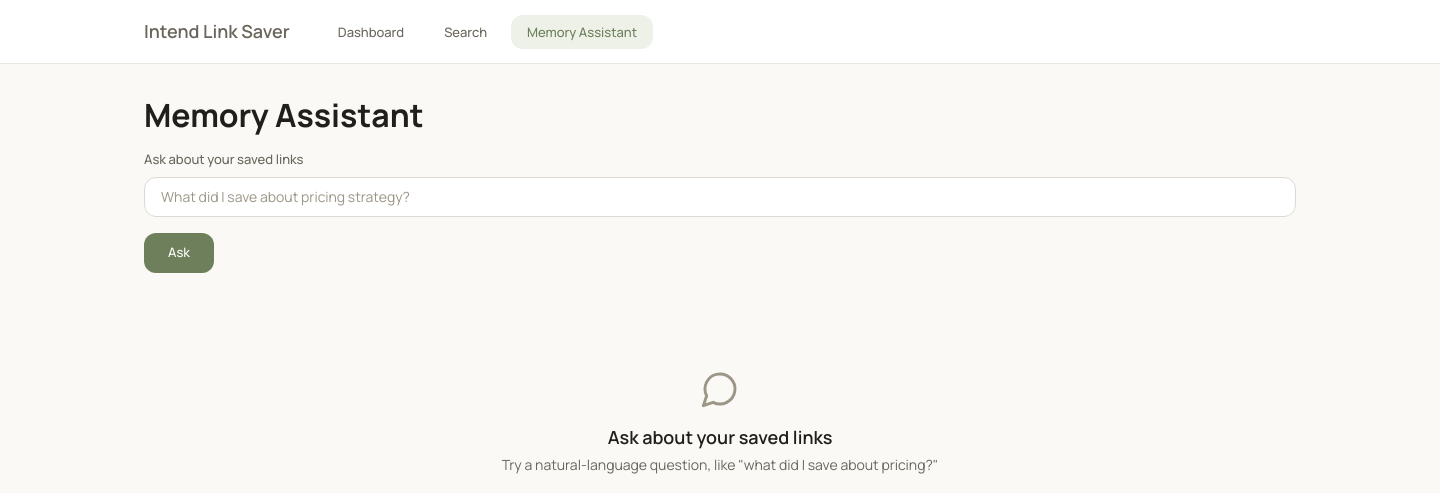
Test: MemoryAssistantPage › shows an error state when the request fails
This screenshot has width=1440, height=493.
In the field labelled "Ask about your saved links": (720, 197) [144, 177, 1296, 217], type "pricing?"
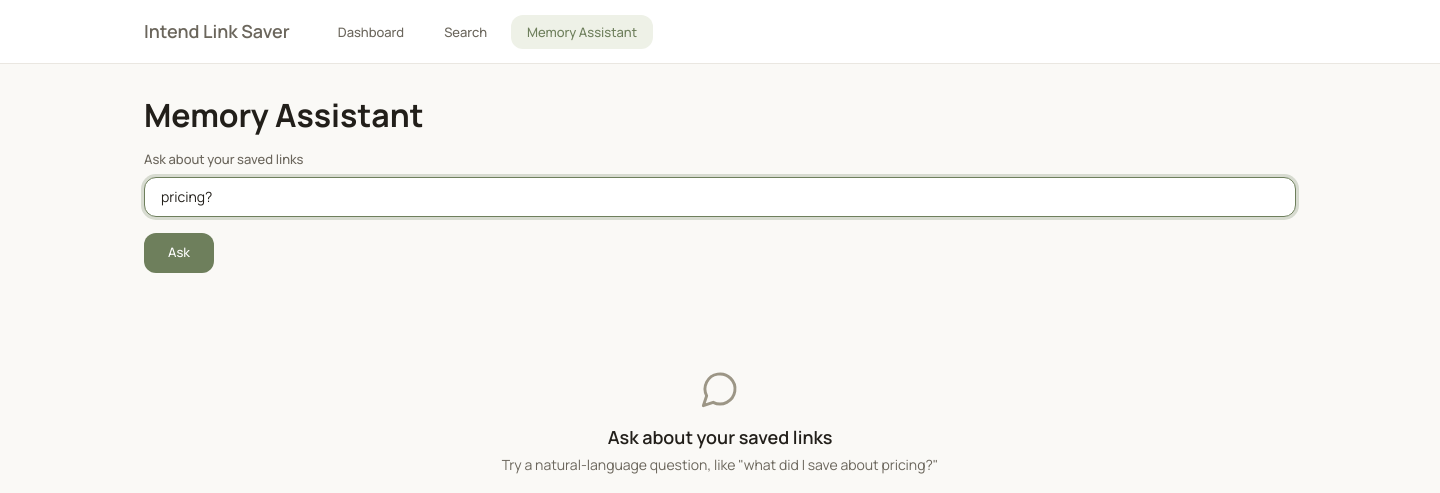
Click the button "Ask": (179, 253) [144, 233, 214, 273]
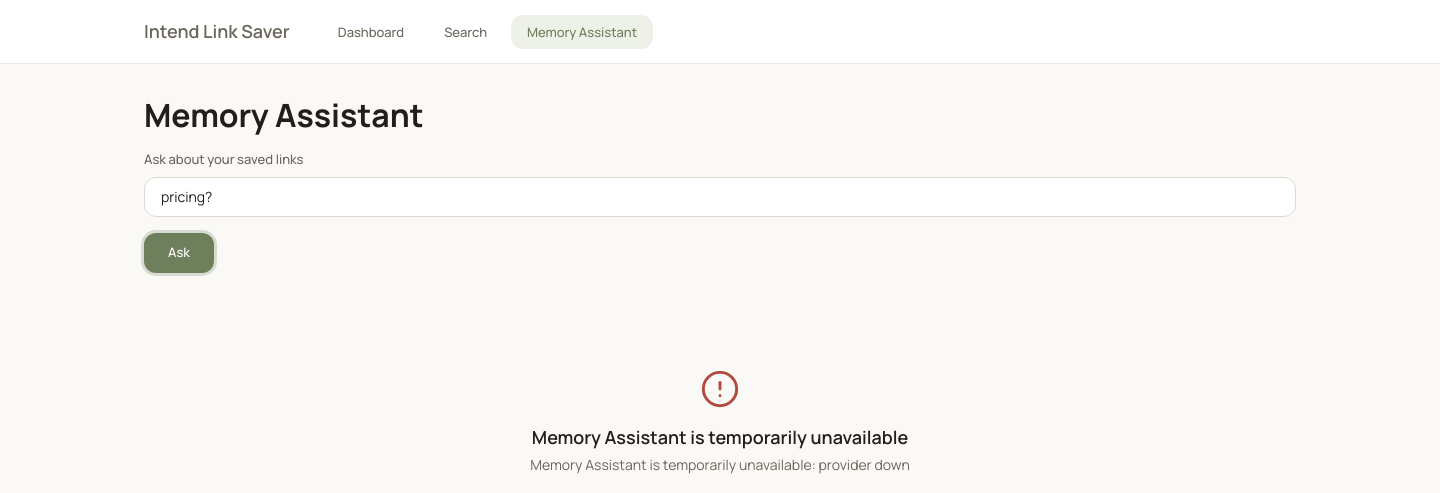
Result: the heading "Memory Assistant is temporarily unavailable" is shown at [532, 425, 908, 450]
Result: the text "Memory Assistant is temporarily unavailable: provider down" is shown at [530, 454, 910, 476]
